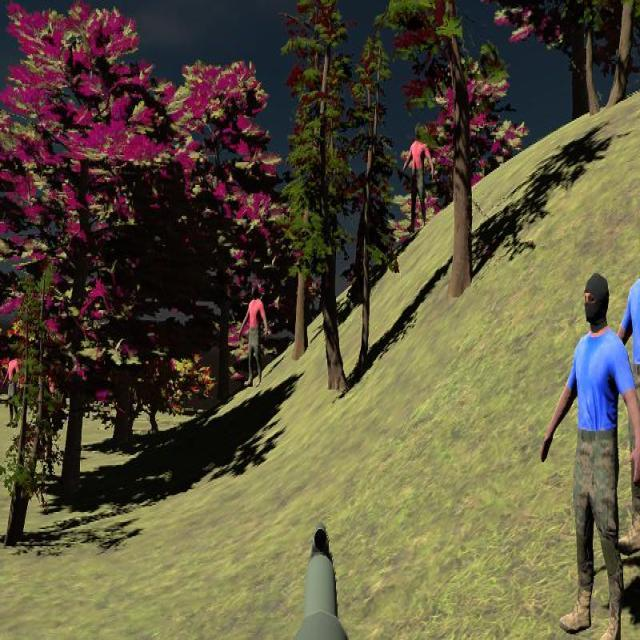Human: (540, 267, 636, 638), (613, 214, 640, 499), (402, 125, 434, 231), (239, 281, 268, 387)
